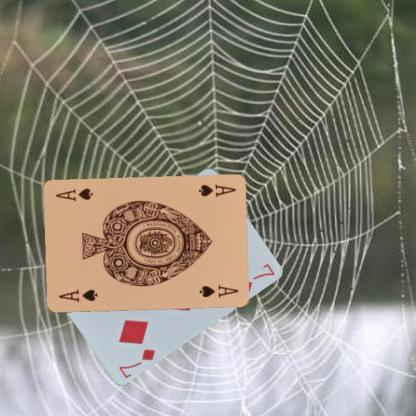7d: (116, 346, 157, 379)
As: (55, 287, 99, 304), (195, 182, 237, 198)
